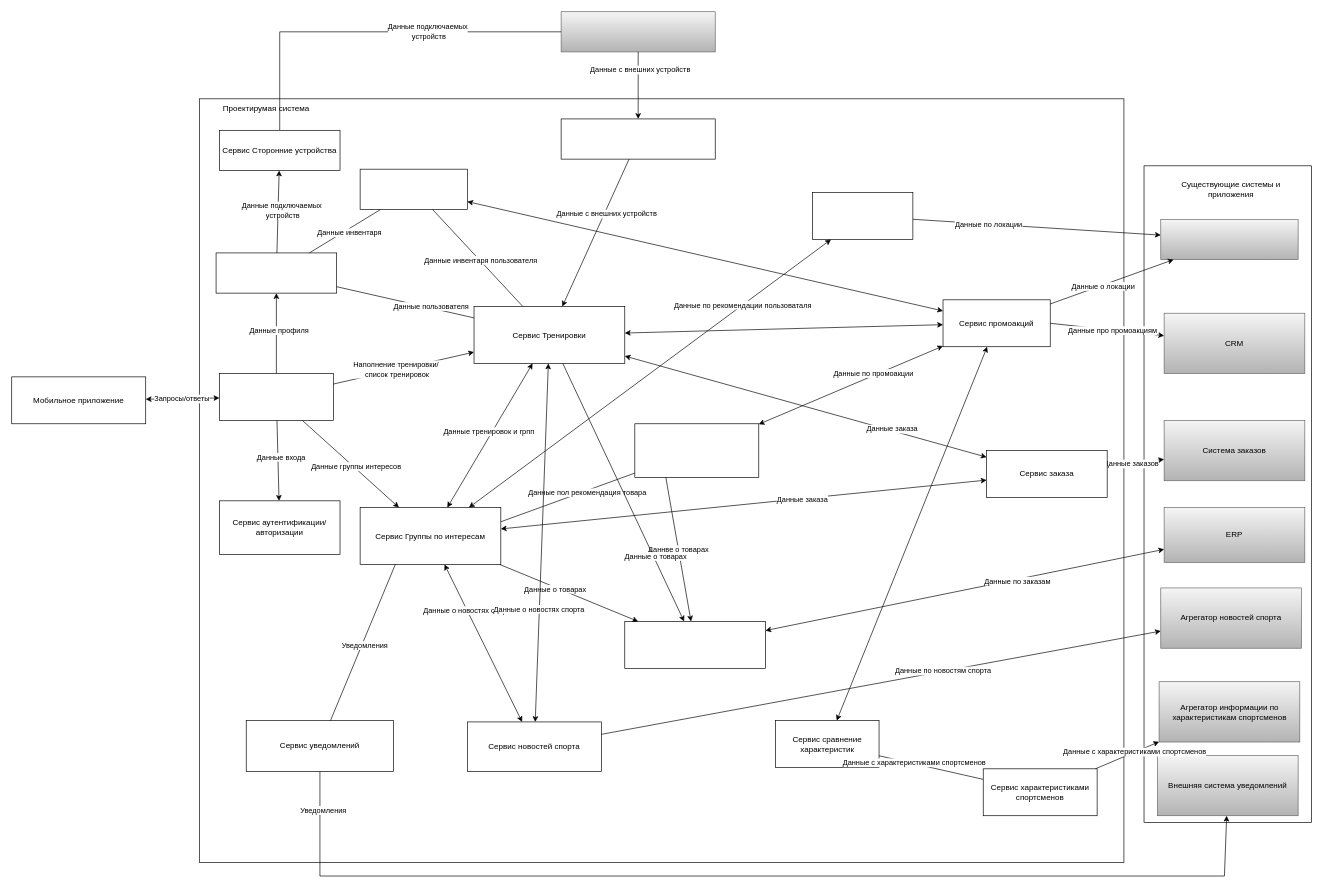
Some shapes in this 1323 by 893 pixel diagram are drawn without their labels. Here are the shapes that lost their labels. From the top down, the centre of each, then its label:
At pixel 637 31: "Сторонние устройства".
At pixel 637 138: "Сервис Отслеживание характеристик с внешних устройств".
At pixel 413 189: "Сервис Инвентарь пользователя".
At pixel 862 216: "Сервис Рекомендации пользователей в общую группу".
At pixel 1229 239: "Сервис локации".
At pixel 276 272: "Сервис Социальная часть профиля пользователя".
At pixel 276 396: "Gateway".
At pixel 696 450: "Сервис Рекомендации товаров".
At pixel 694 644: "Сервис товаров".
